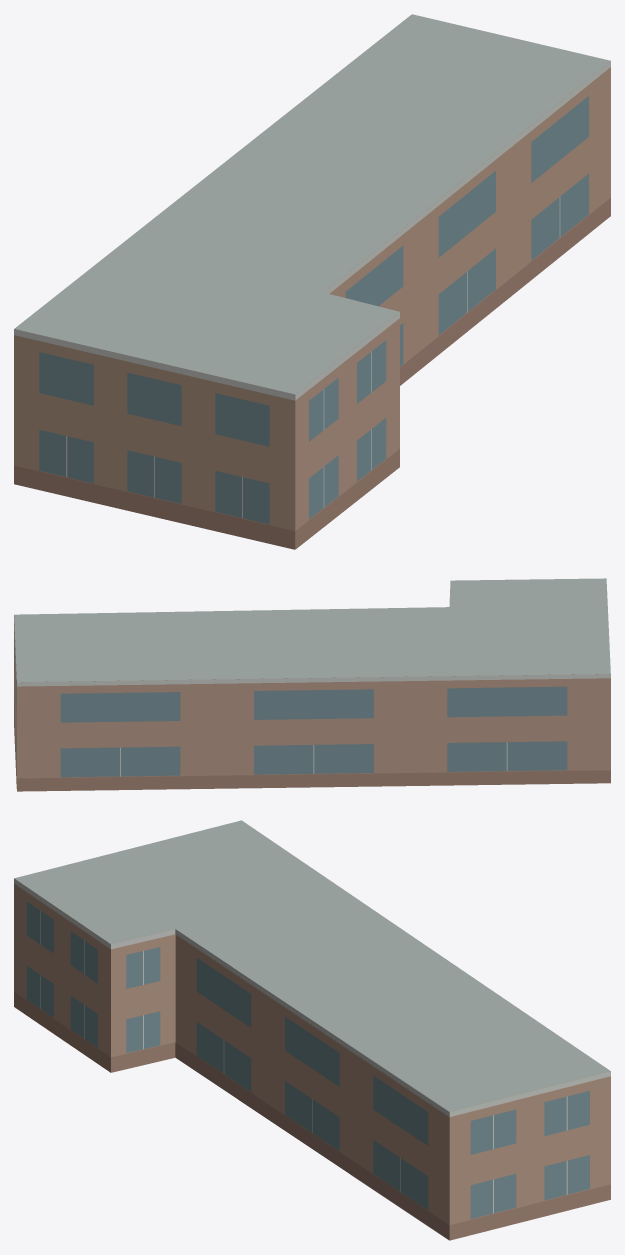
Rendered from survey-upis-32978918.glb.
3 renders of one model, top to bottom at view 1: azimuth 30°, elevation 25°; view 2: azimuth 150°, elevation 25°; view 3: azimuth 270°, elevation 25°, orthographic. The views are drawn at different scales.
Visible parts, largest first — view 1: survey-upis-32978918.tmp; view 2: survey-upis-32978918.tmp; view 3: survey-upis-32978918.tmp.
Part boxes in pixels (left/top/right/bottom): survey-upis-32978918.tmp: left=14, top=14, right=610, bottom=549; survey-upis-32978918.tmp: left=14, top=578, right=610, bottom=791; survey-upis-32978918.tmp: left=14, top=820, right=610, bottom=1240.
Bounding box in the file's own units: 29.7 × 6.1 × 25.67.
